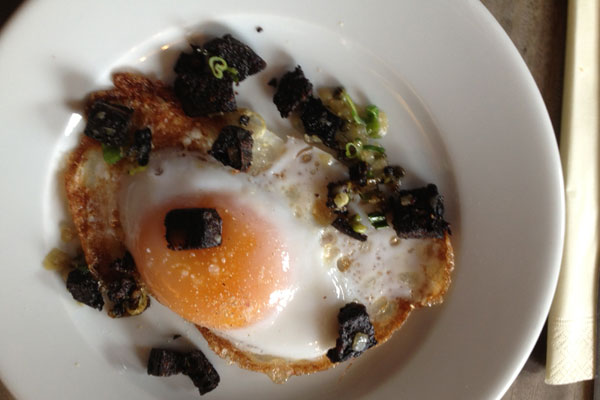fried egg: (122, 155, 359, 336)
